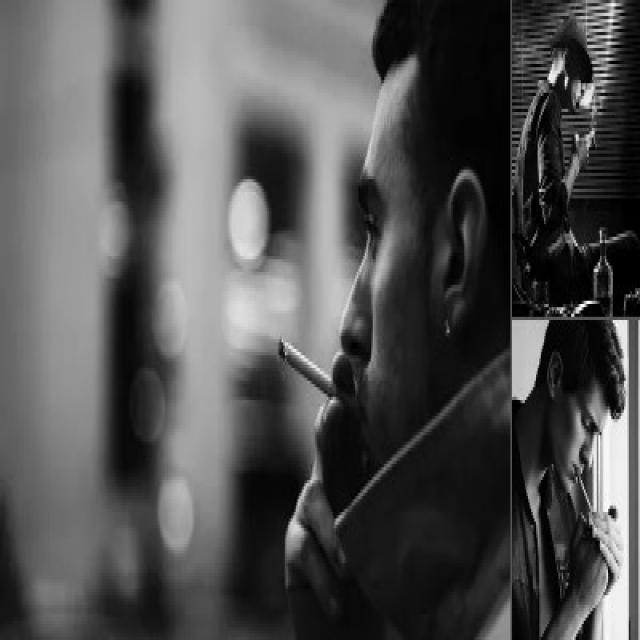cigarette: (276, 330, 346, 419), (576, 461, 597, 522)
